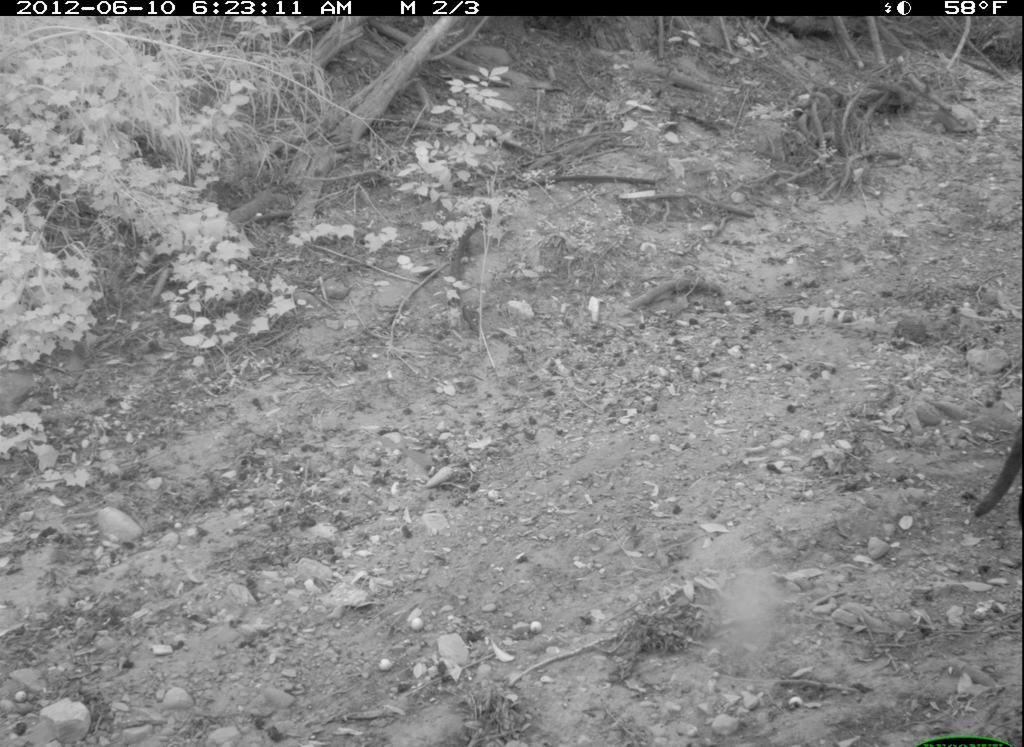cat: (972, 422, 1021, 548)
